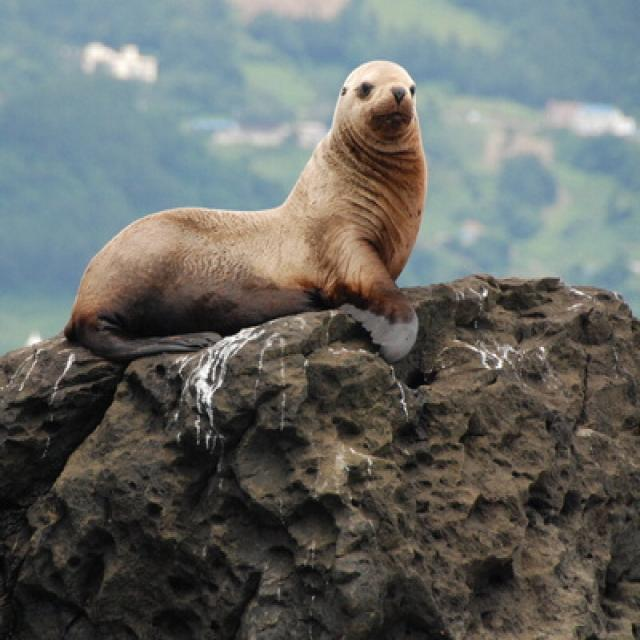WaterDog: (59, 59, 434, 375)
